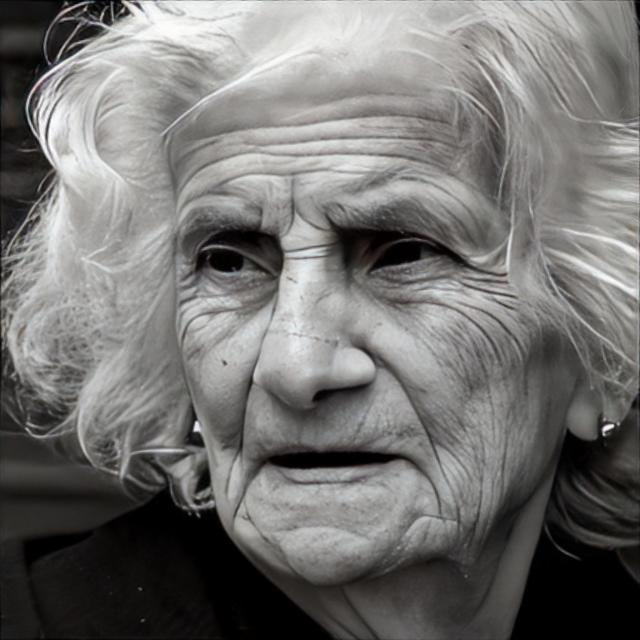disgust: (168, 34, 580, 590)
